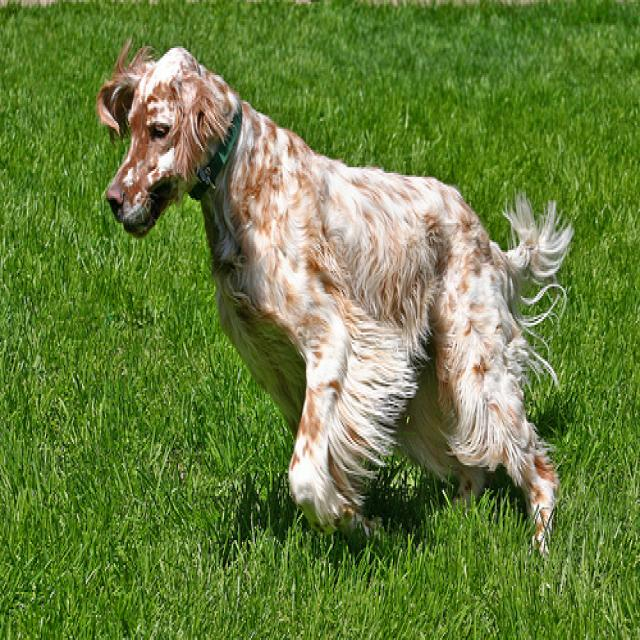dog-english_setter: (88, 25, 584, 563)
